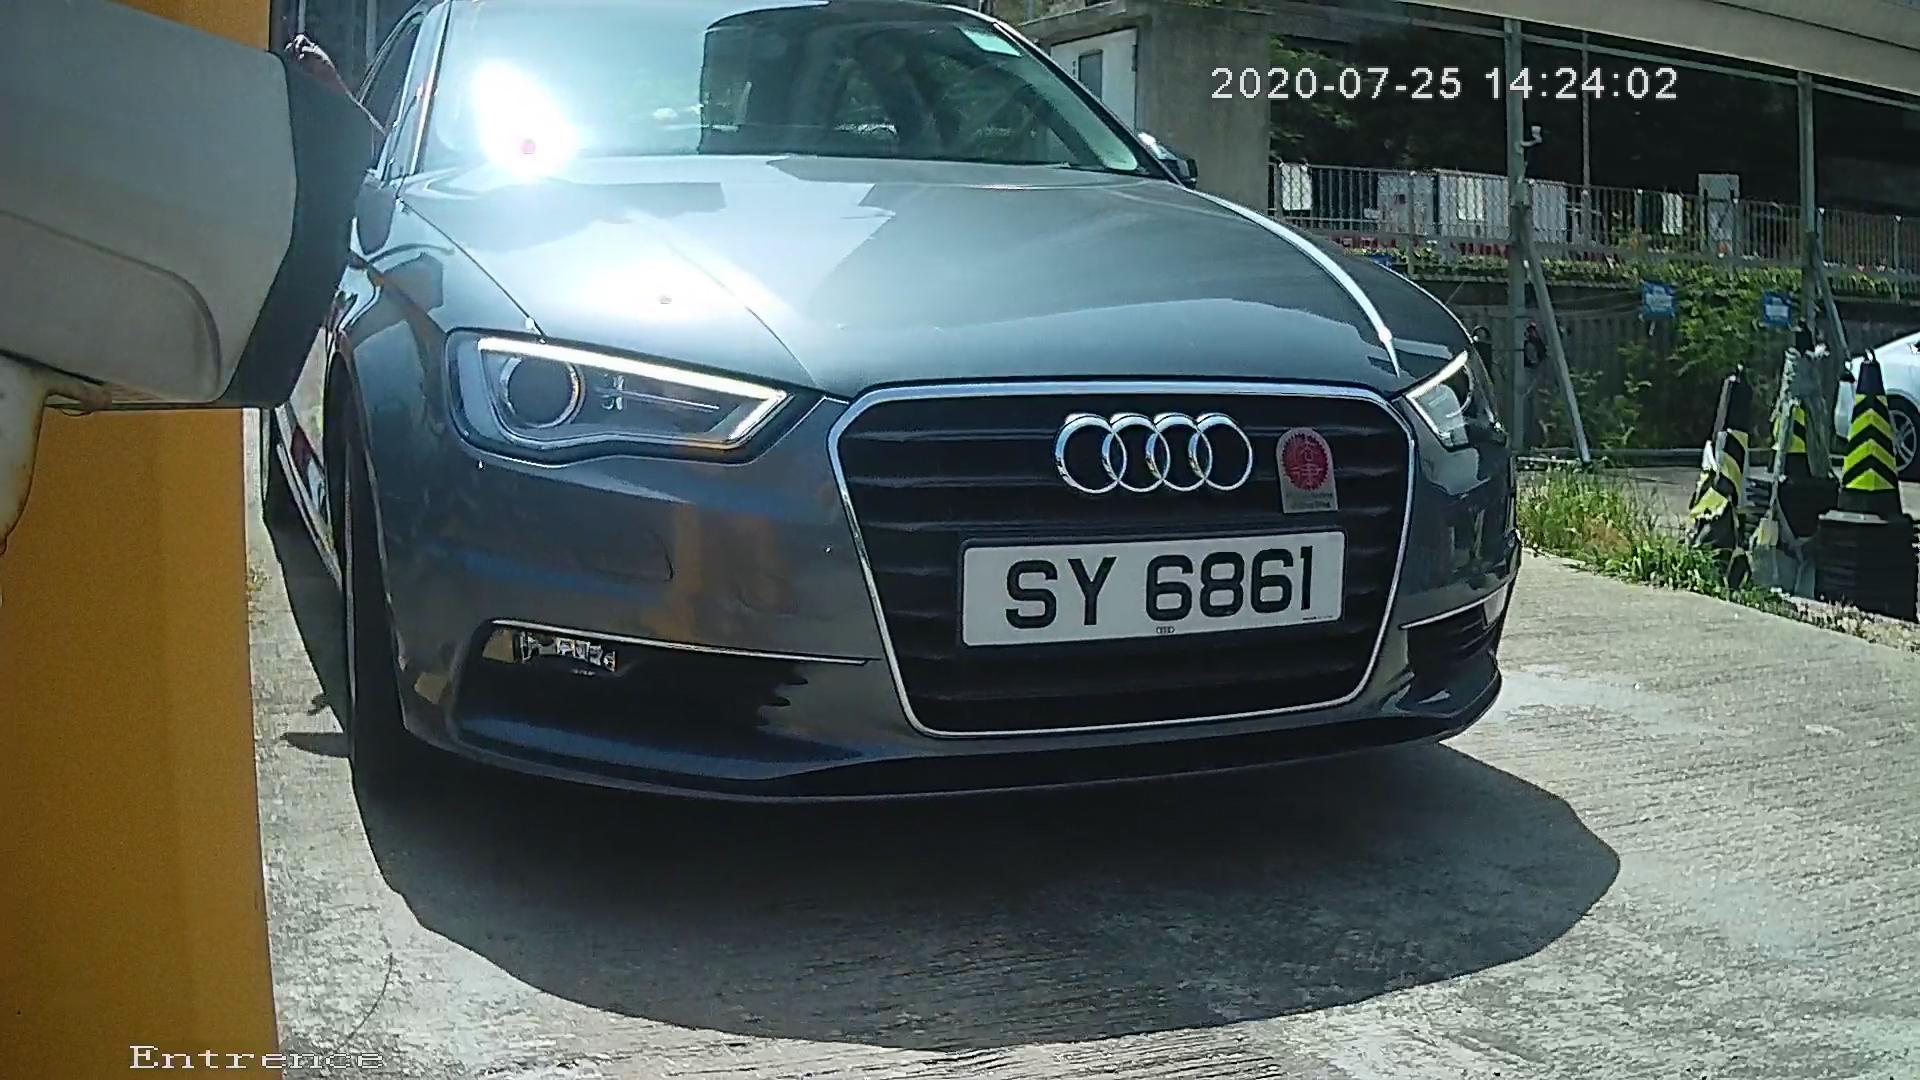Car: (121, 1, 1595, 892)
License Plate: (909, 516, 1363, 656)
